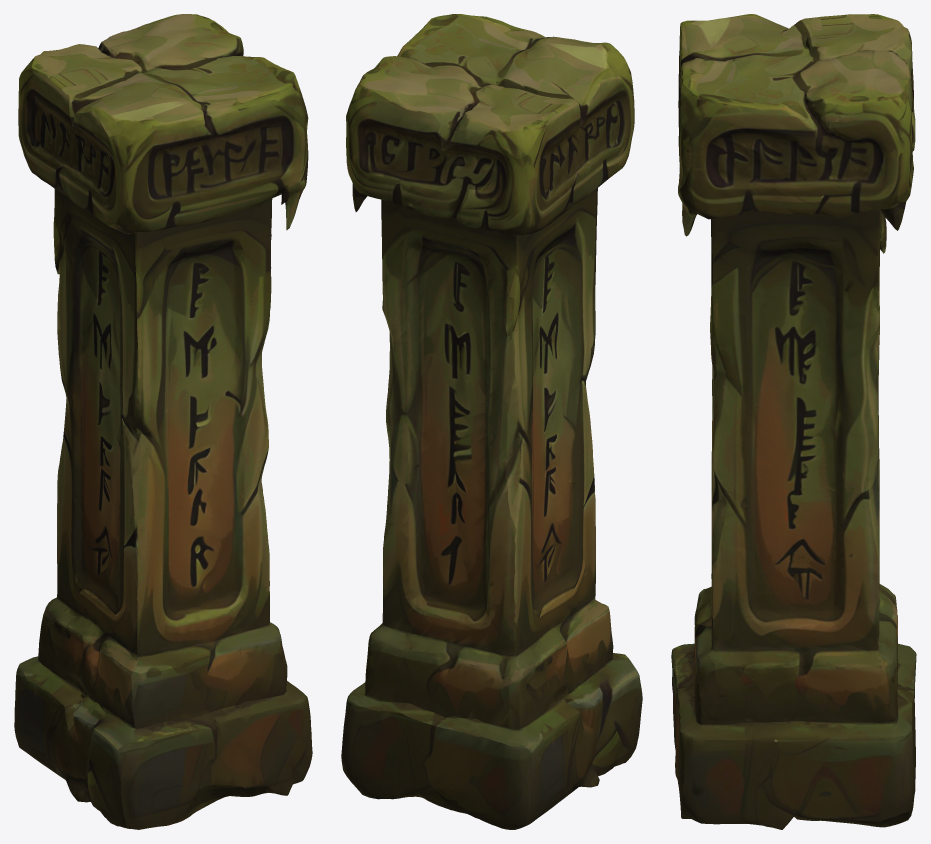
The model's file is carved_pillar.glb.
3 renders of one model, left to right at view 1: azimuth 30°, elevation 25°; view 2: azimuth 150°, elevation 25°; view 3: azimuth 270°, elevation 25°, orthographic. The views are drawn at different scales.
Visible parts, largest first — view 1: carved_pillar; view 2: carved_pillar; view 3: carved_pillar.
Boxes of the visible parts, x1=… form: carved_pillar: x1=14, y1=14, x2=312, y2=829; carved_pillar: x1=341, y1=14, x2=642, y2=829; carved_pillar: x1=671, y1=14, x2=916, y2=829.
Bounding box in the file's own units: 0.8824 × 3 × 0.9128.
1 material, 1 textured.
